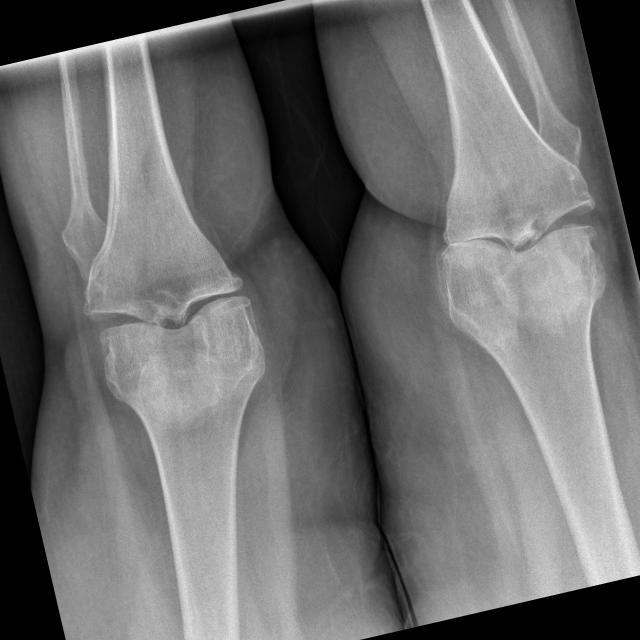Knee: (67, 208, 268, 403), (413, 144, 612, 326)
